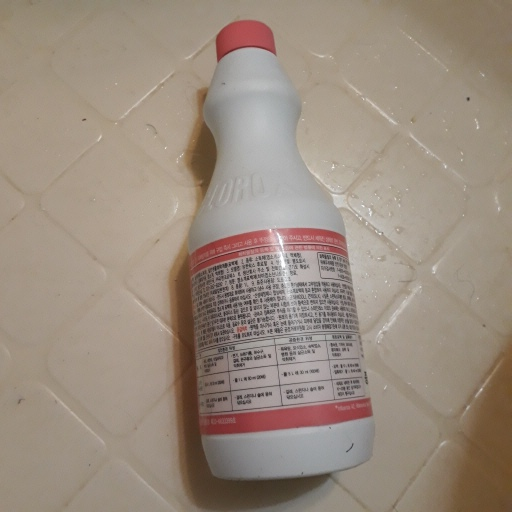Plastic_0: (183, 19, 375, 486)
